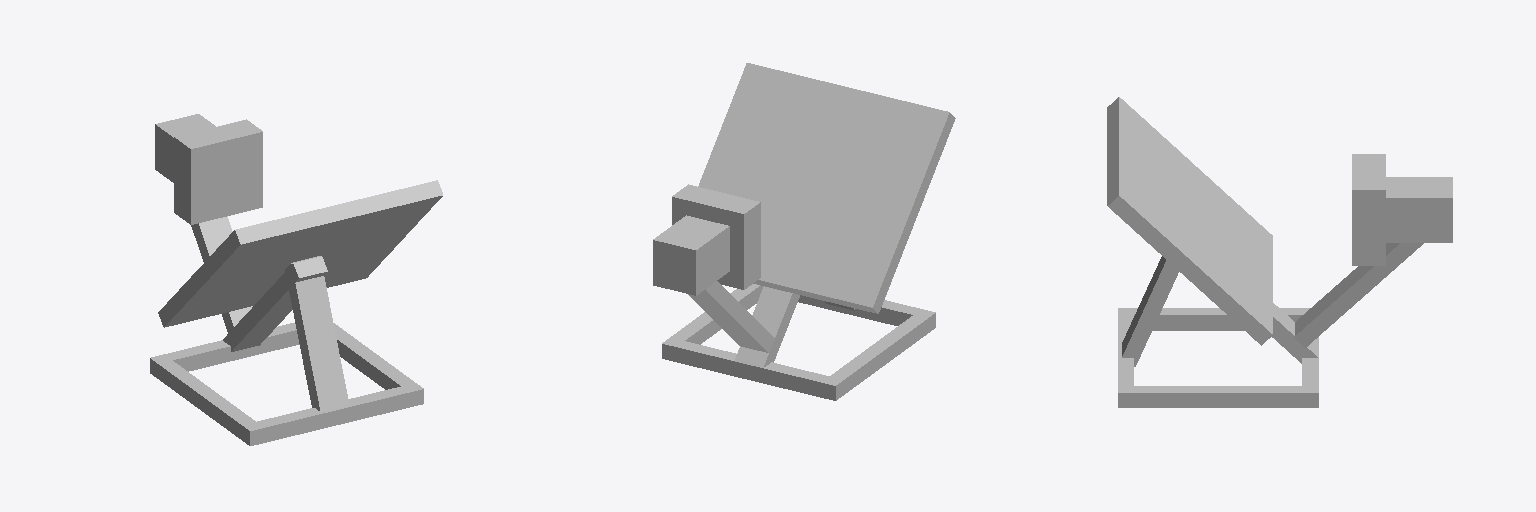
File: satellite_television.obj
The picture shows the model from 3 angles: view 1: azimuth 30°, elevation 25°; view 2: azimuth 150°, elevation 25°; view 3: azimuth 270°, elevation 25°; orthographic projection.
Visible parts, largest first — view 1: cube; view 2: cube; view 3: cube.
Part boxes in pixels (left/top/right/bottom): cube: left=150, top=114, right=442, bottom=445; cube: left=653, top=63, right=955, bottom=400; cube: left=1107, top=97, right=1452, bottom=407.
Size of the model in its own units: 0.875 by 0.9053 by 1.29.